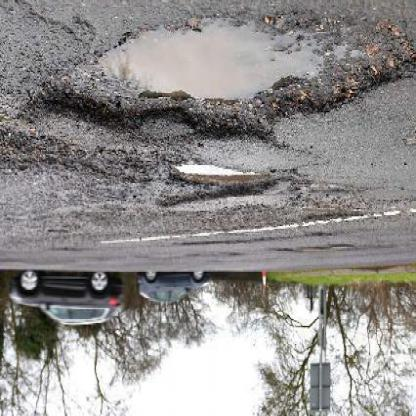pothole: (41, 14, 414, 145), (160, 162, 280, 212), (1, 125, 70, 175), (276, 245, 355, 258), (306, 210, 364, 226)
